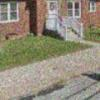stairs: (48, 25, 83, 41)
